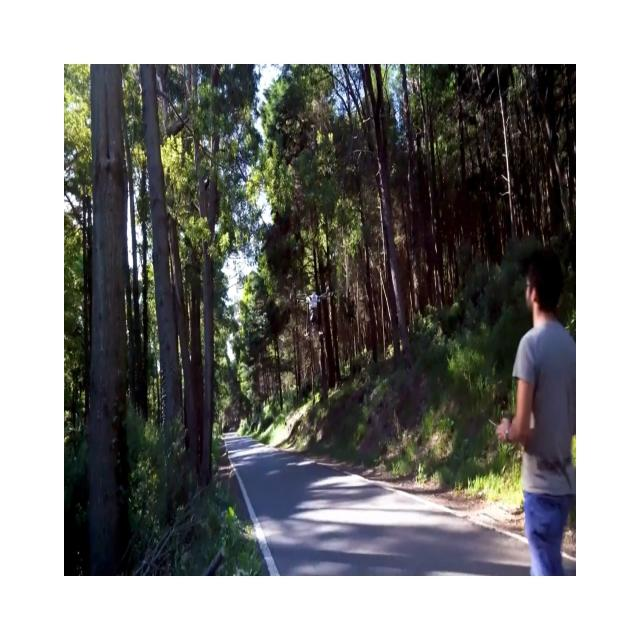drone: (298, 282, 328, 334)
